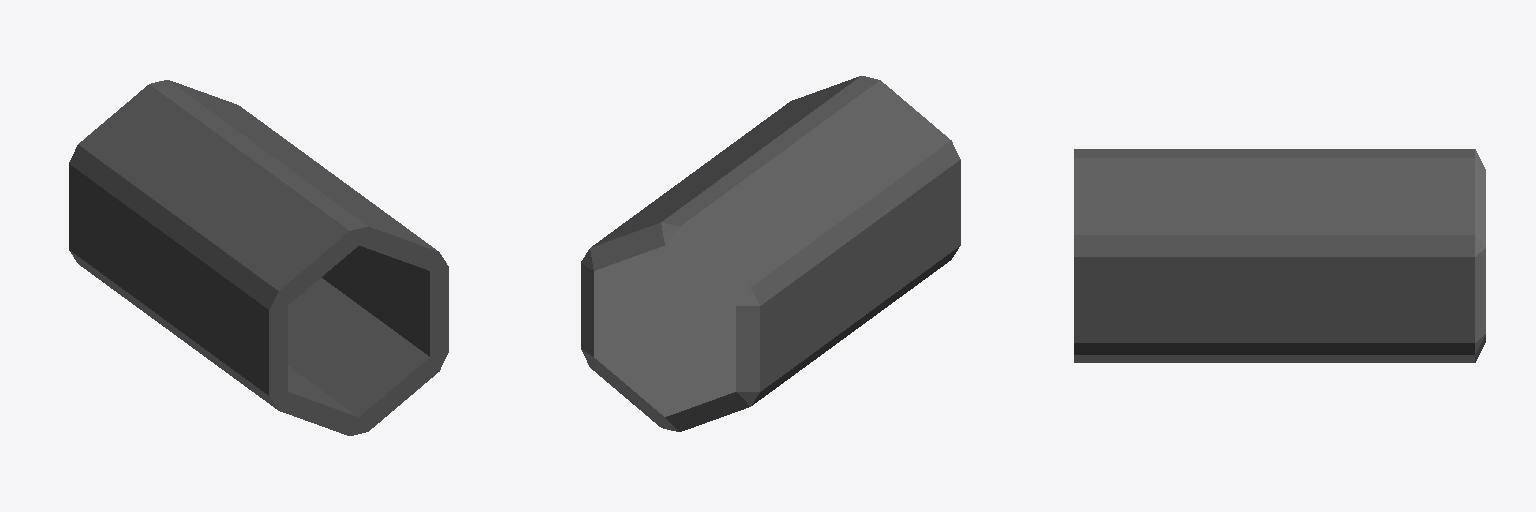
File: hex2.obj
3 views of the same model, side by side, from view 1: azimuth 30°, elevation 25°; view 2: azimuth 150°, elevation 25°; view 3: azimuth 270°, elevation 25° (orthographic).
Parts seen in each view (by area): view 1: Circle; view 2: Circle; view 3: Circle.
Boxes of the visible parts, box(x1,y1,x2,y2) form: Circle: box(69, 80, 448, 435); Circle: box(581, 76, 960, 431); Circle: box(1074, 149, 1485, 362).
Bounding box in the file's own units: 0.2415 × 0.2644 × 0.4807.